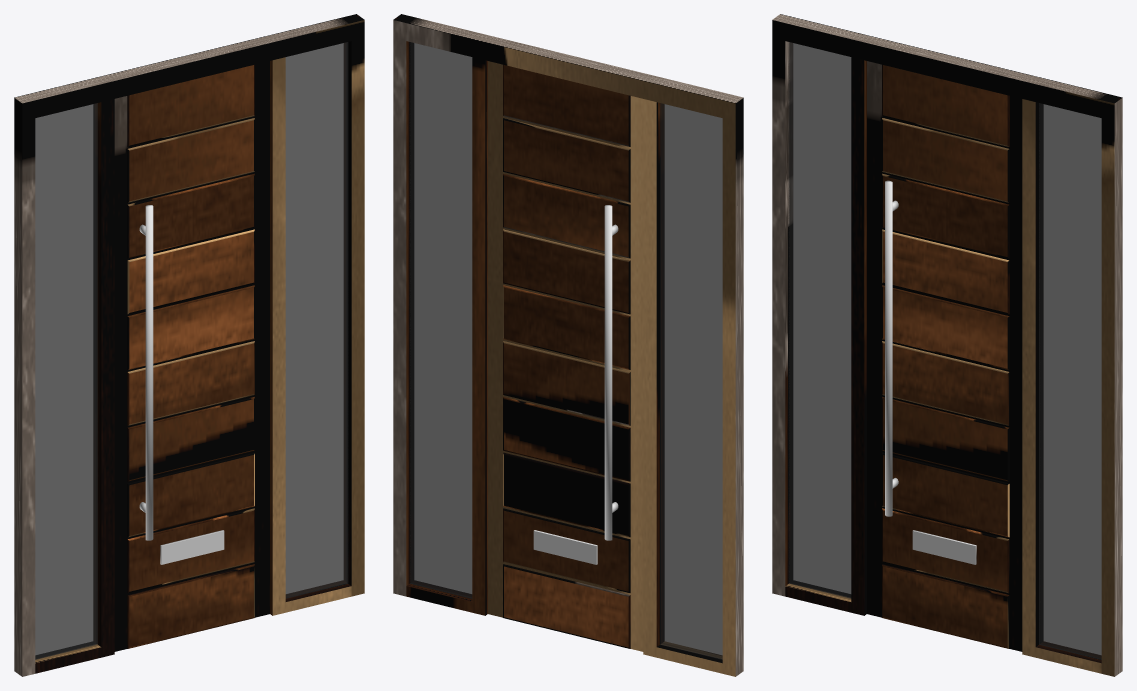
Rendered from kdh.fbx.
3 renders of one model, left to right at view 1: azimuth 30°, elevation 25°; view 2: azimuth 150°, elevation 25°; view 3: azimuth 330°, elevation 25°, orthographic.
Visible parts, largest first — view 1: door; view 2: door; view 3: door.
Boxes of the visible parts, x1,y1,x2,y2 form: door: (14,14,364,676); door: (393,14,743,676); door: (772,14,1122,676).
Size of the model in its own units: 250 by 400 by 27.5.
